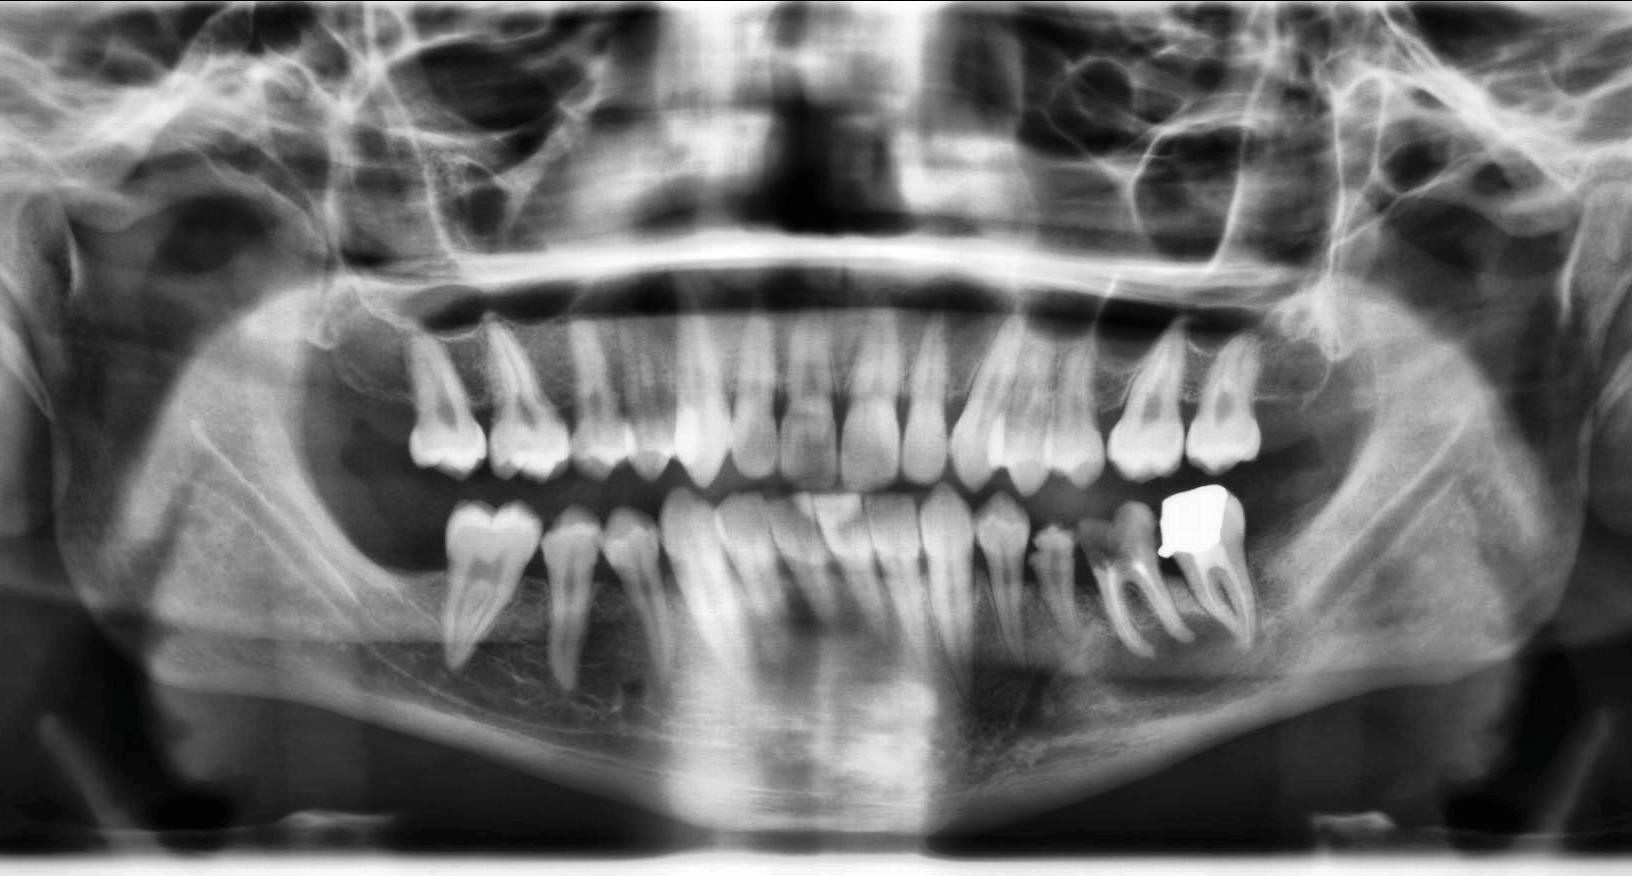radikuler: (1086, 613, 1247, 703)
